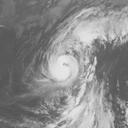cyclone: (41, 48, 81, 88)
